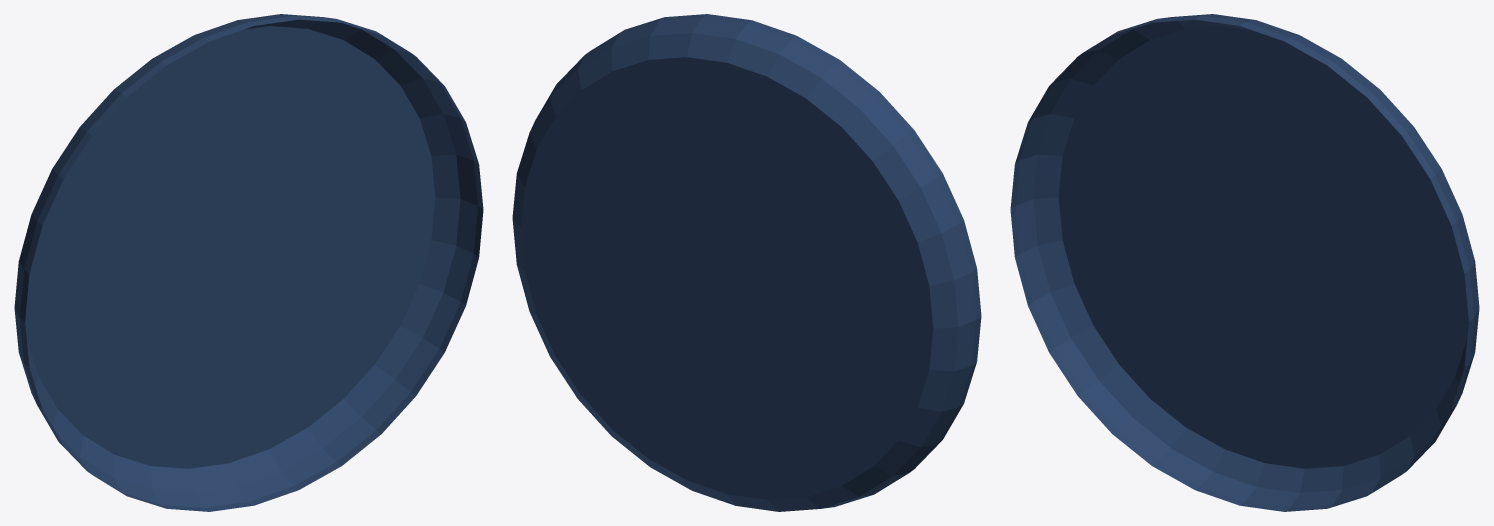
File: elevator_button.fbx
The picture shows the model from 3 angles, left to right: view 1: azimuth 30°, elevation 25°; view 2: azimuth 150°, elevation 25°; view 3: azimuth 330°, elevation 25°; orthographic projection.
Visible parts, largest first — view 1: ElevatorButton; view 2: ElevatorButton; view 3: ElevatorButton.
Part boxes in pixels (x1,y1,x2,y2): ElevatorButton: [14, 14, 483, 511]; ElevatorButton: [512, 14, 981, 511]; ElevatorButton: [1010, 14, 1479, 511].
Size of the model in its own units: 77.37 by 77.37 by 7.35.
